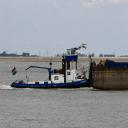tugboat: (10, 44, 95, 94)
